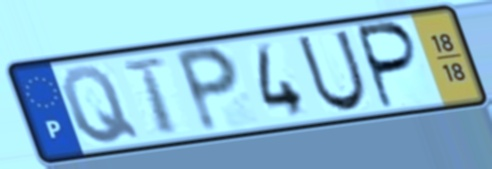4: (255, 41, 308, 118)
P: (170, 43, 243, 136), (356, 19, 423, 113)
Q: (57, 63, 144, 147)
T: (118, 55, 183, 137)
U: (293, 28, 371, 115)
